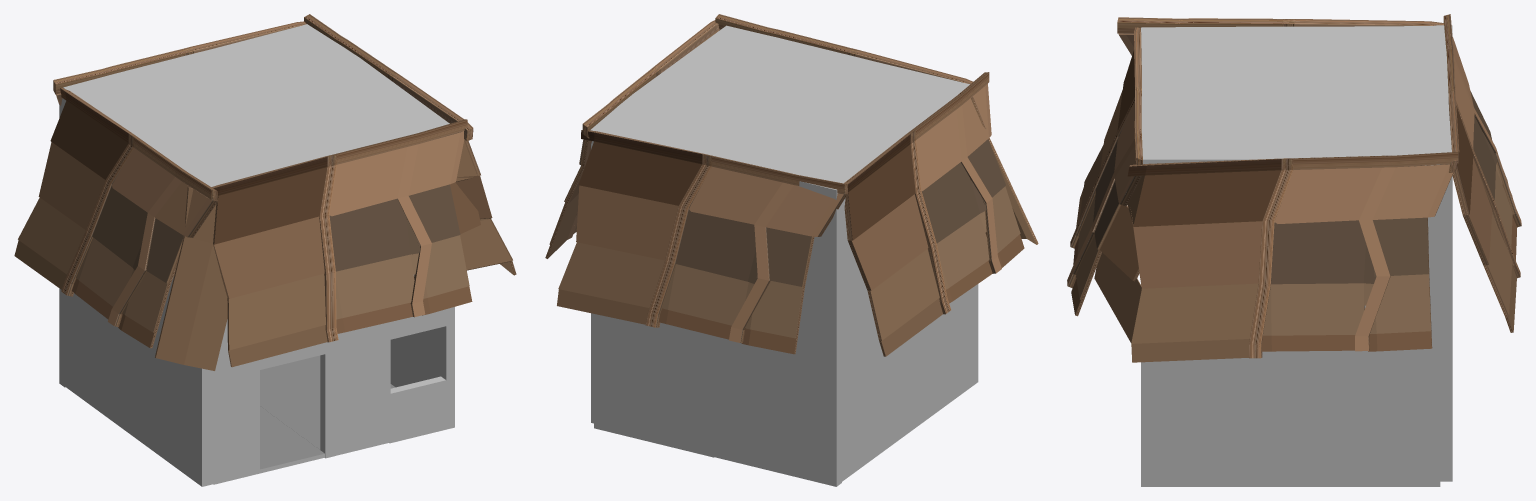
The model's file is MOtupatlHouse.fbx.
3 renders of one model, left to right at view 1: azimuth 30°, elevation 25°; view 2: azimuth 150°, elevation 25°; view 3: azimuth 270°, elevation 25°, orthographic. The views are drawn at different scales.
Visible parts, largest first — view 1: Cube, Cube.001, Cube.003, Cube.002, Cube.004; view 2: Cube, Cube.004, Cube.003, Cube.002, Cube.001; view 3: Cube, Cube.002, Cube.004, Cube.001, Cube.003.
Boxes of the visible parts, x1=… form: Cube: x1=59, y1=24, x2=454, y2=486; Cube.001: x1=155, y1=119, x2=480, y2=370; Cube.003: x1=14, y1=88, x2=217, y2=348; Cube.002: x1=304, y1=14, x2=516, y2=275; Cube.004: x1=53, y1=21, x2=306, y2=105; Cube: x1=590, y1=25, x2=978, y2=486; Cube.004: x1=557, y1=130, x2=847, y2=354; Cube.003: x1=844, y1=72, x2=1024, y2=356; Cube.002: x1=545, y1=20, x2=719, y2=258; Cube.001: x1=715, y1=14, x2=1038, y2=244; Cube: x1=1141, y1=25, x2=1452, y2=486; Cube.002: x1=1094, y1=151, x2=1458, y2=362; Cube.004: x1=1443, y1=14, x2=1521, y2=332; Cube.001: x1=1067, y1=27, x2=1142, y2=316; Cube.003: x1=1117, y1=17, x2=1443, y2=55.
Bounding box in the file's own units: 7546 × 5990 × 7375.
